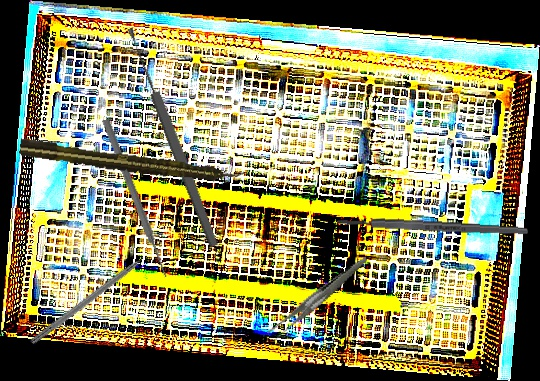Dressing Forceps: (254, 256, 383, 343)
Handpiece: (18, 136, 245, 189)
Hook Surgical: (28, 245, 160, 348)
Pusher: (100, 117, 171, 280)
Scalpel Handle: (335, 215, 530, 238)
Surgical Spoon: (124, 25, 221, 249)
